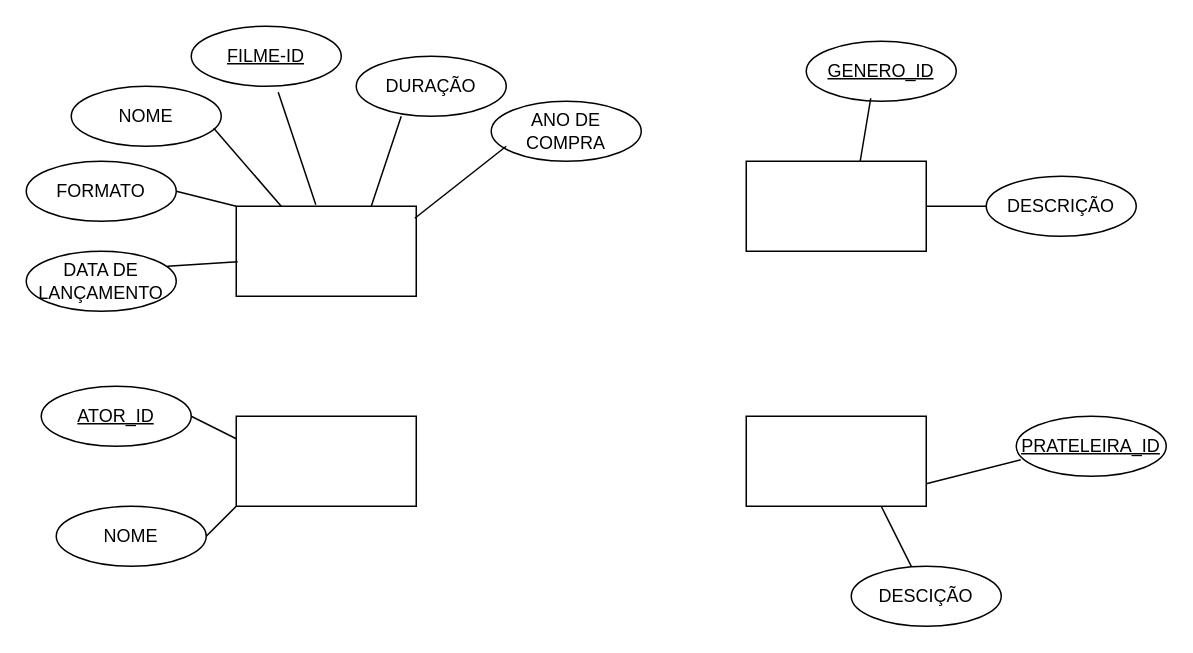
Some shapes in this 1193 by 653 pixel diagram are drawn without their labels. The shapes that lost their labels are listed below. From the top down, each one's centre as x and y in pixels, then its label:
the point at 835,205: GENERO
the point at 325,250: FILME
the point at 325,460: ATOR
the point at 835,460: PRATELEIRA
